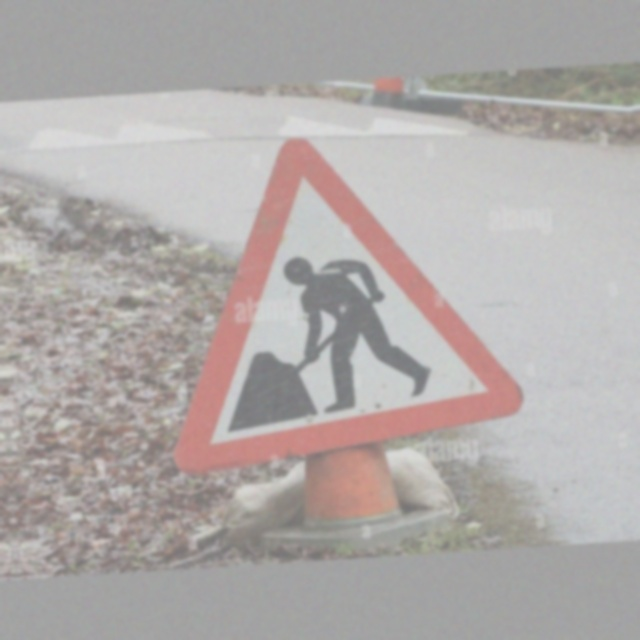Men_at_Work: (158, 128, 539, 466)
